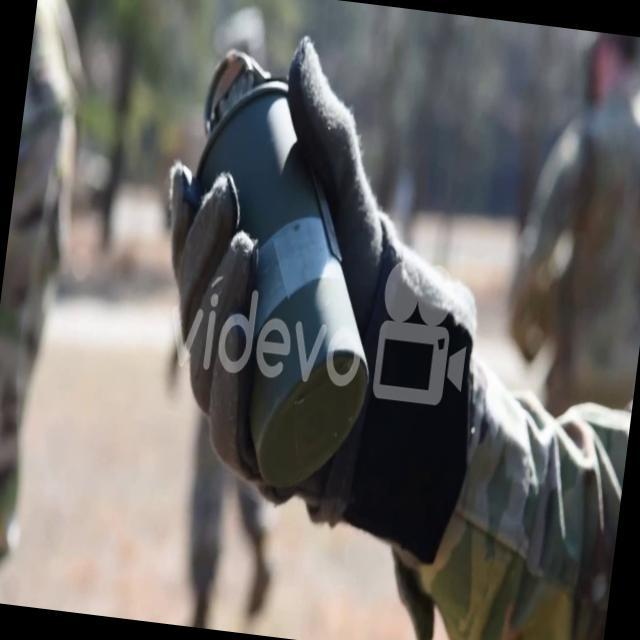grenade: (159, 44, 407, 492)
